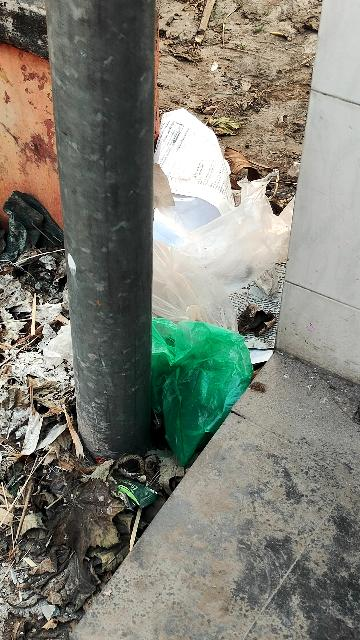polythene: (139, 218, 280, 432)
